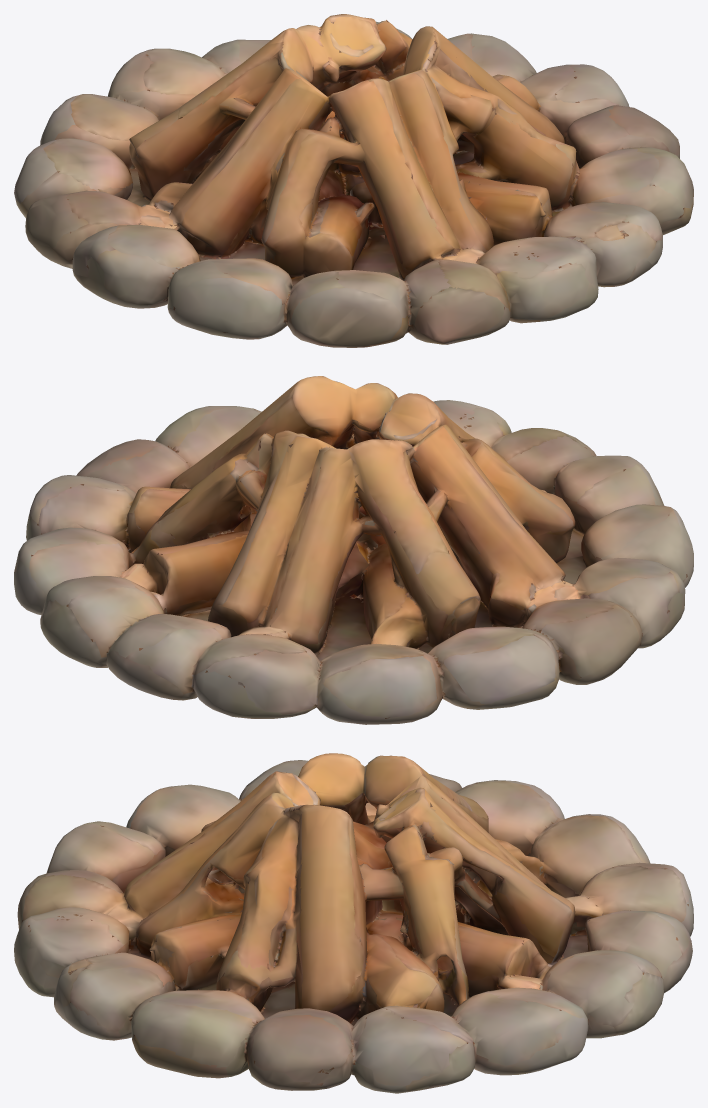
Rendered from campfire.glb.
The picture shows the model from 3 angles, top to bottom: view 1: azimuth 30°, elevation 25°; view 2: azimuth 150°, elevation 25°; view 3: azimuth 270°, elevation 25°; orthographic projection.
Size of the model in its own units: 1.99 by 0.6164 by 2.
Materials: 1 (1 with a texture image).
